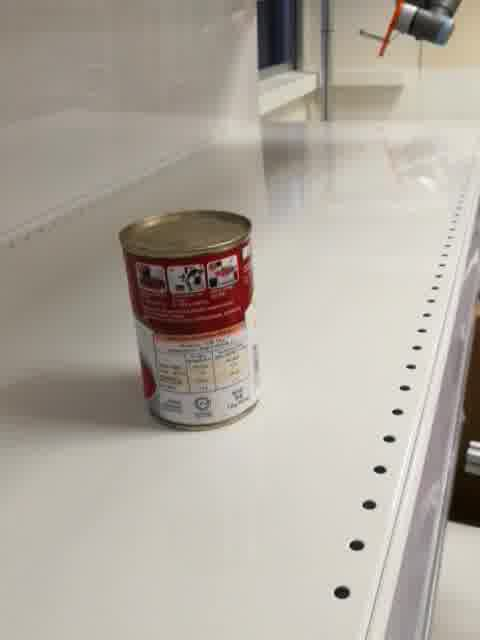tomatosoup: (115, 208, 261, 434)
